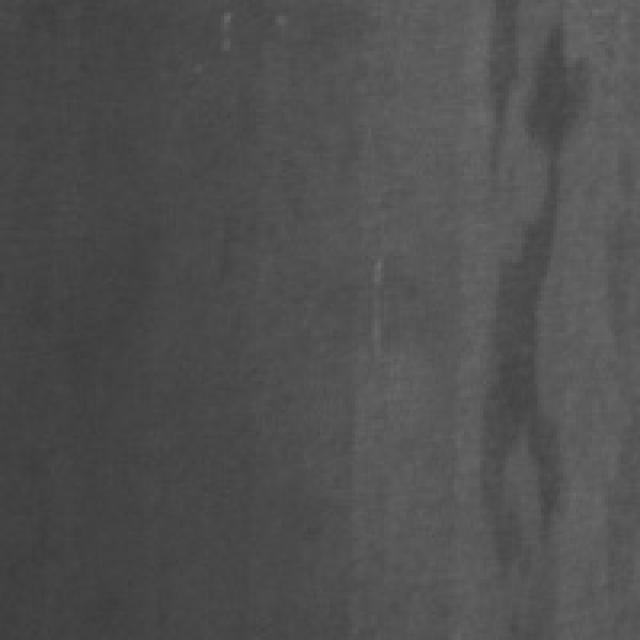inclusion: (441, 0, 582, 630)
